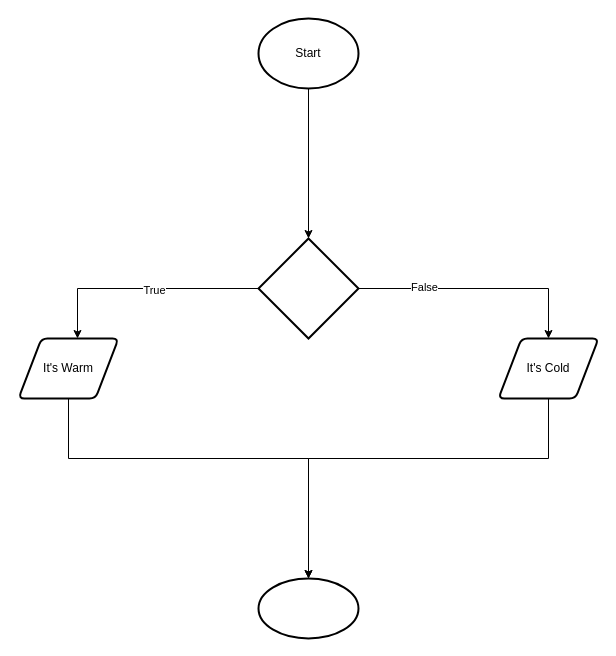
This 616x656 diagram has some shape labels left out. Here are the shapes that lost their labels. From the top down, the centre of each, then its label:
At point 308,288: "Temp > 40".
At point 308,608: "End".
